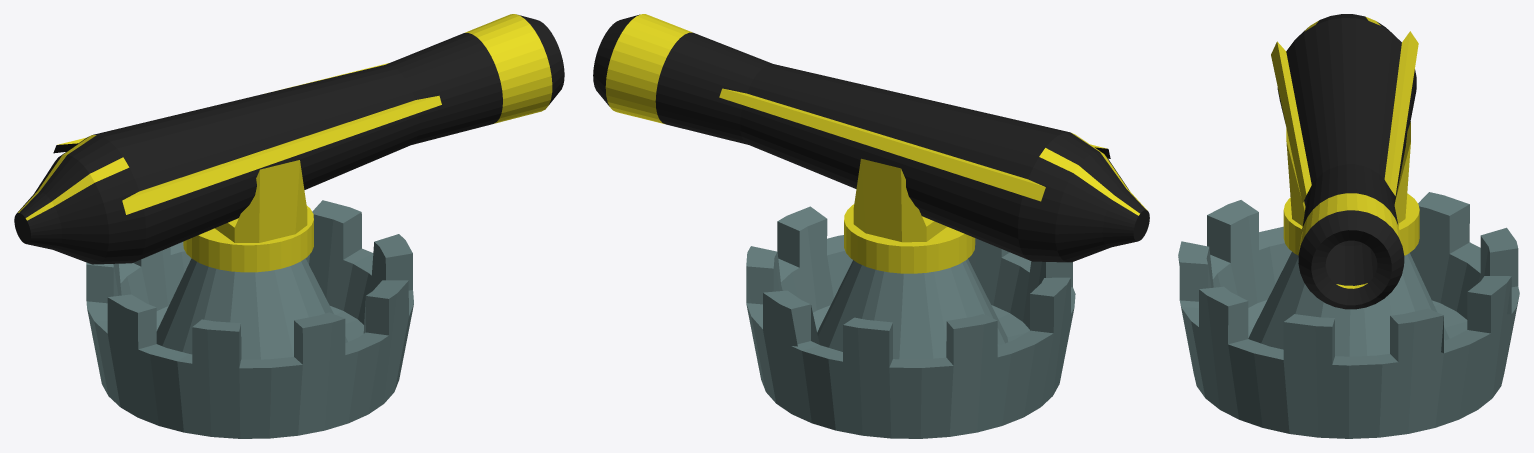
File: Tower.fbx
The picture shows the model from 3 angles, left to right: view 1: azimuth 30°, elevation 25°; view 2: azimuth 150°, elevation 25°; view 3: azimuth 270°, elevation 25°; orthographic projection. The views are drawn at different scales.
Visible parts, largest first — view 1: Cylinder, Tower; view 2: Cylinder, Tower; view 3: Tower, Cylinder.
Boxes of the visible parts, x1,y1,x2,y2 form: Cylinder: [14, 14, 564, 272]; Tower: [86, 200, 413, 438]; Cylinder: [593, 14, 1149, 273]; Tower: [746, 206, 1075, 438]; Tower: [1178, 192, 1519, 438]; Cylinder: [1271, 14, 1419, 309].
Size of the model in its own units: 454 by 239 by 245.
